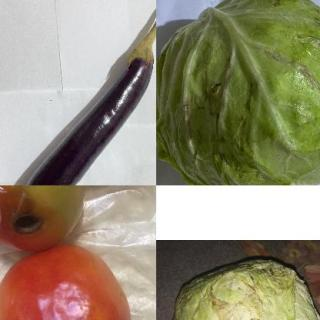Tomat: (1, 185, 131, 320)
